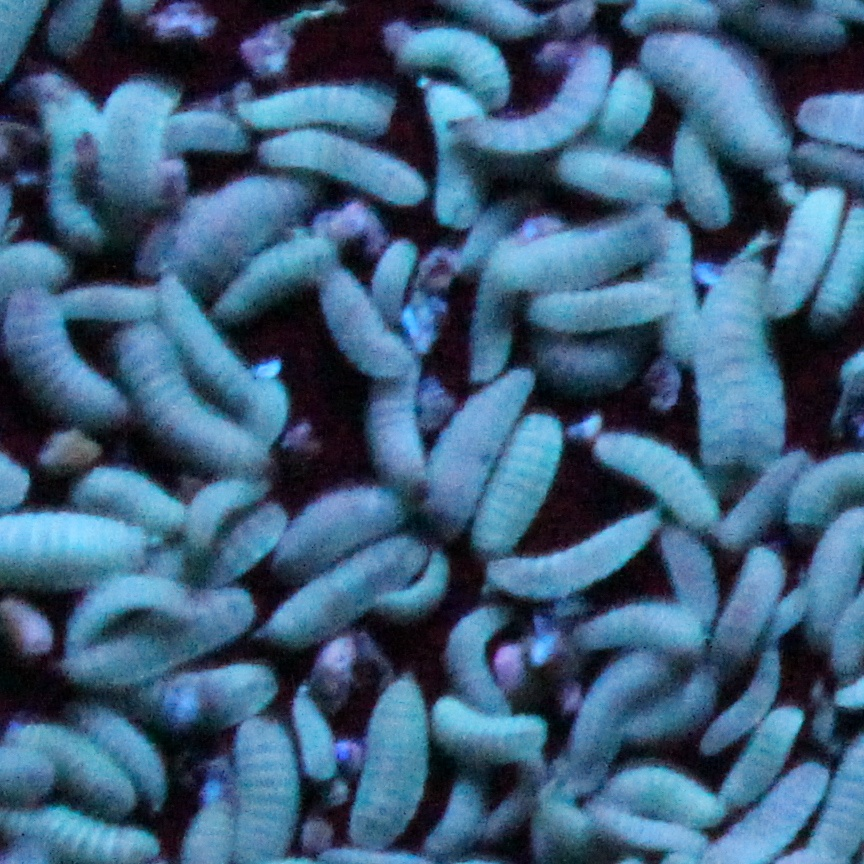larve: (111, 337, 265, 479), (640, 35, 789, 171), (21, 80, 132, 251), (450, 48, 608, 148), (269, 544, 426, 644), (64, 598, 245, 684), (698, 276, 770, 482), (3, 294, 121, 419), (438, 363, 532, 516), (173, 177, 302, 286), (487, 512, 658, 594), (160, 292, 271, 415), (348, 678, 427, 850), (502, 205, 658, 285), (275, 482, 406, 573), (481, 411, 564, 552), (260, 140, 433, 206), (598, 432, 712, 526), (419, 85, 490, 227), (217, 236, 345, 313), (17, 729, 131, 808), (233, 723, 295, 863), (115, 664, 275, 718), (571, 656, 653, 761), (769, 186, 839, 308), (710, 547, 781, 664), (519, 333, 663, 390), (106, 81, 171, 206), (395, 31, 512, 100), (717, 455, 803, 548), (434, 692, 542, 765), (238, 84, 392, 134), (469, 245, 526, 380), (71, 584, 195, 643), (595, 764, 717, 822), (701, 665, 784, 750), (731, 707, 802, 806), (328, 280, 406, 370), (81, 707, 159, 792), (369, 359, 418, 485), (179, 484, 264, 554), (574, 606, 708, 650), (556, 149, 676, 198), (659, 223, 700, 365), (215, 497, 281, 584), (675, 123, 727, 229), (80, 477, 182, 531), (659, 528, 723, 612), (584, 806, 707, 849), (626, 685, 717, 743), (448, 616, 510, 700), (280, 692, 336, 784), (533, 289, 669, 324), (52, 281, 159, 321), (601, 65, 649, 148), (428, 785, 484, 847), (384, 554, 439, 617), (164, 111, 245, 152), (375, 243, 419, 318), (490, 784, 531, 840), (771, 579, 803, 640)
